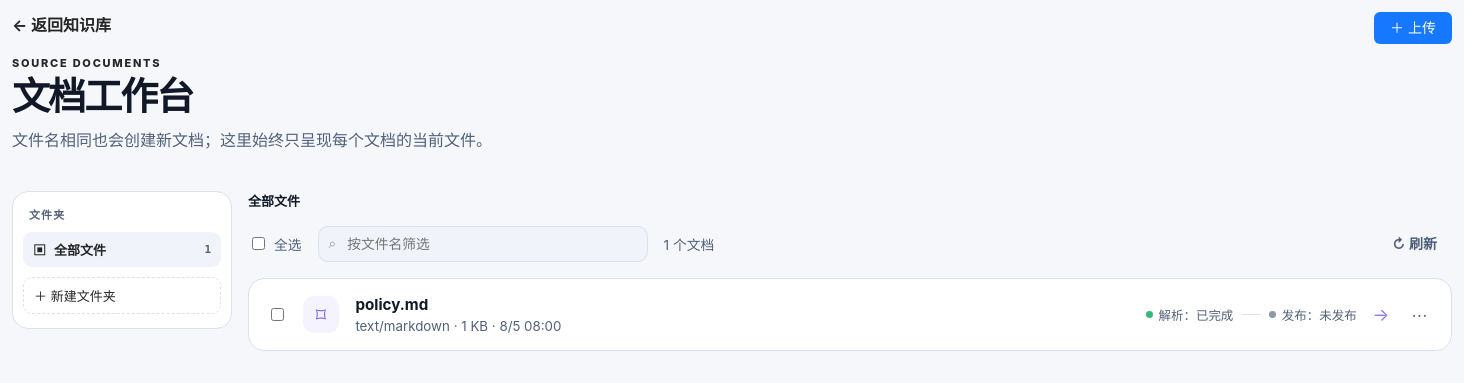
Test: DocumentsView › 右键新建目录输入名称后创建成功并暂存到 localStorage
Right-click the element with test id "folder-sidebar": (122, 260) 12,191 -> 232,329
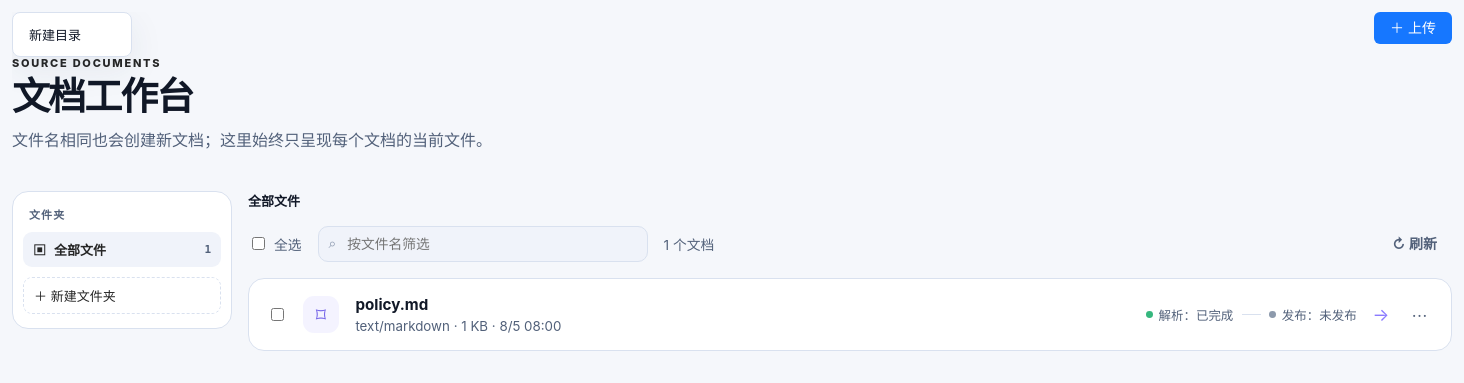
Click the button with test id "context-new-folder": (72, 34) 17,17 -> 127,52
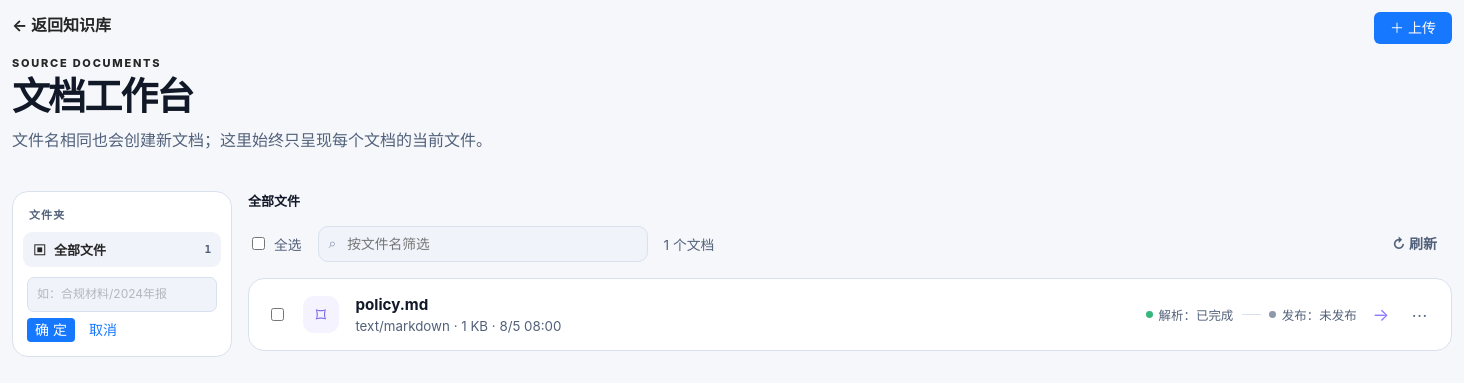
Expected: the field with test id "new-folder-input" is shown
In the field with test id "new-folder-input": (122, 294) 27,277 -> 217,312, type "/风险策略"
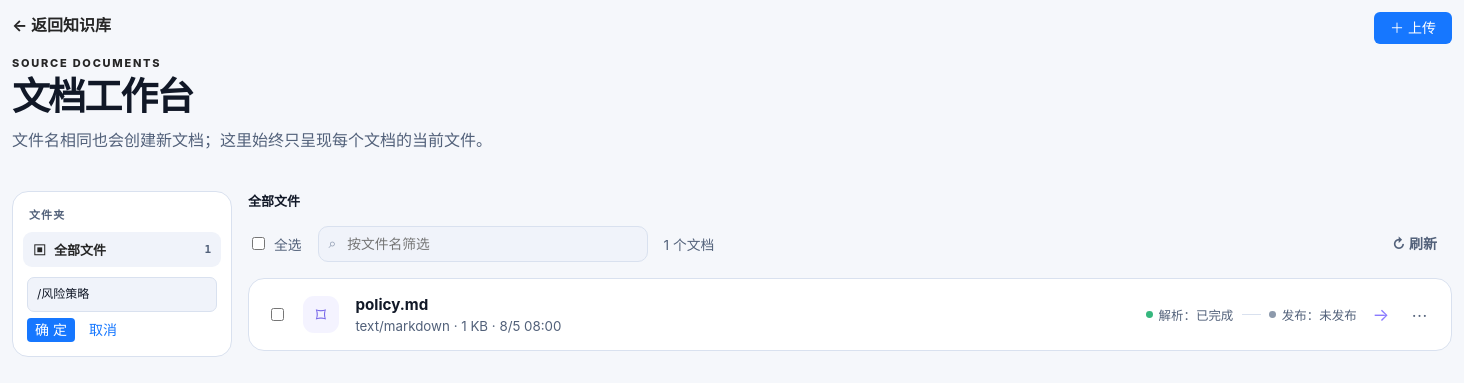
Click the button with test id "new-folder-confirm": (51, 330) 27,318 -> 75,342
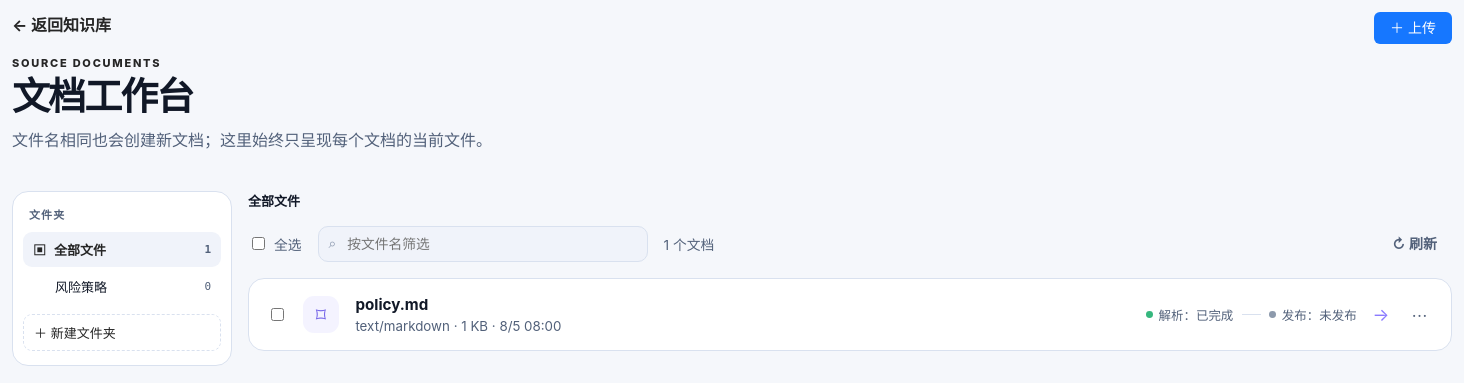
Expected: the text "风险策略" is shown, 55,279 -> 107,295
